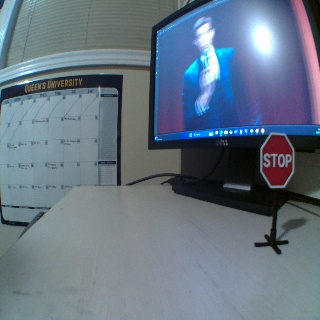sign_stop: (261, 131, 294, 187)
